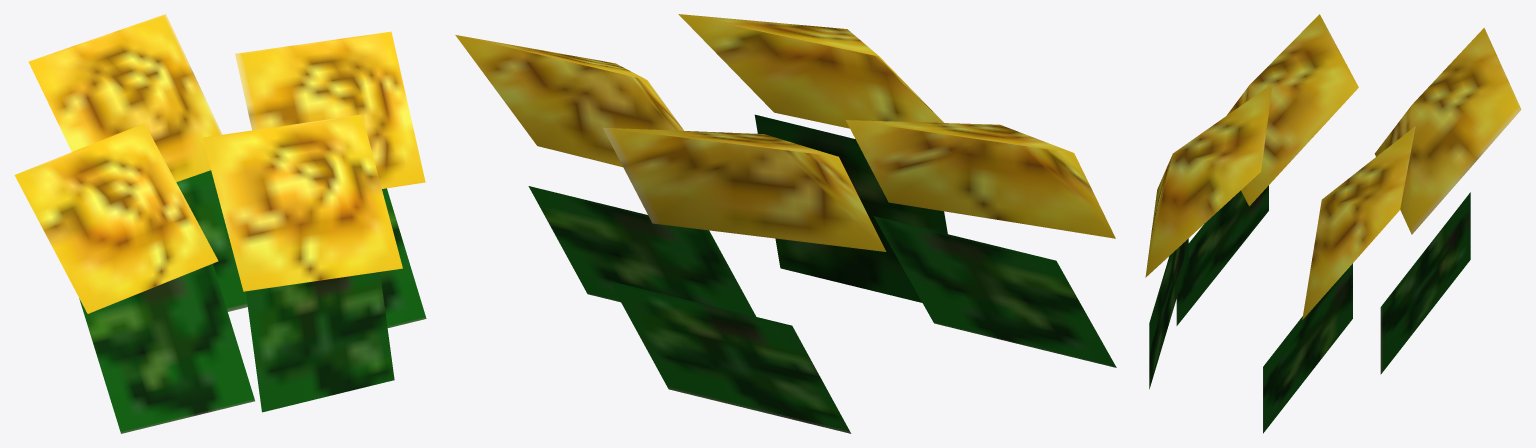
The model's file is flw_rose_ye.dae.
3 renders of one model, left to right at view 1: azimuth 30°, elevation 25°; view 2: azimuth 150°, elevation 25°; view 3: azimuth 270°, elevation 25°, orthographic. The views are drawn at different scales.
Parts seen in each view (by area): view 1: flw_rose_ye; view 2: flw_rose_ye; view 3: flw_rose_ye.
Part boxes in pixels (left/top/right/bottom): flw_rose_ye: left=14, top=14, right=426, bottom=433; flw_rose_ye: left=455, top=14, right=1116, bottom=433; flw_rose_ye: left=1145, top=14, right=1521, bottom=433.
Size of the model in its own units: 33.43 by 19.21 by 25.27.
Materials: 1 (1 with a texture image).
